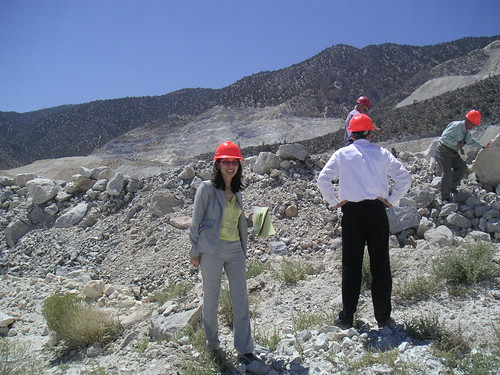person hardhat: (319, 114, 412, 333), (187, 135, 274, 364), (436, 101, 486, 198), (343, 93, 376, 143)
